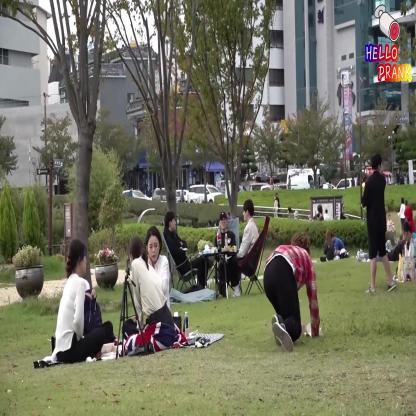Fall_Down: (261, 232, 324, 356)
